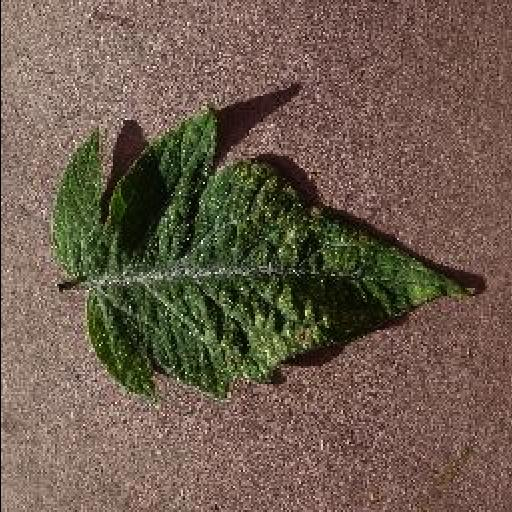disease_tomato: (56, 106, 464, 394)
